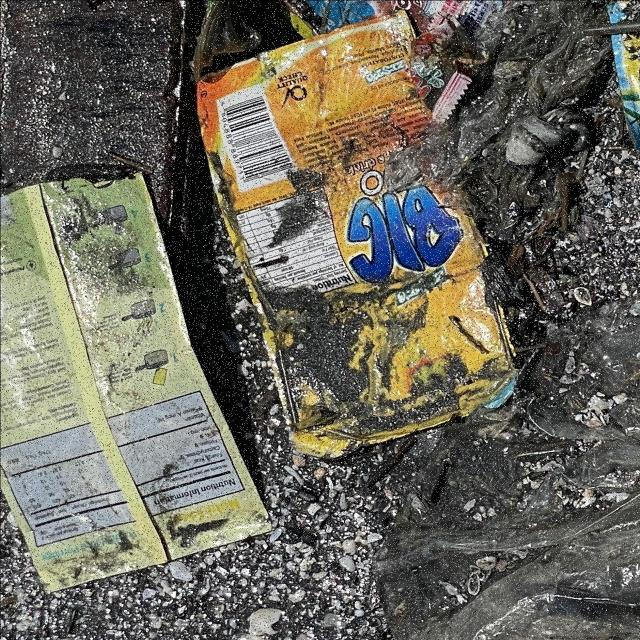plastic_waste: (194, 14, 523, 456), (1, 170, 277, 600)
